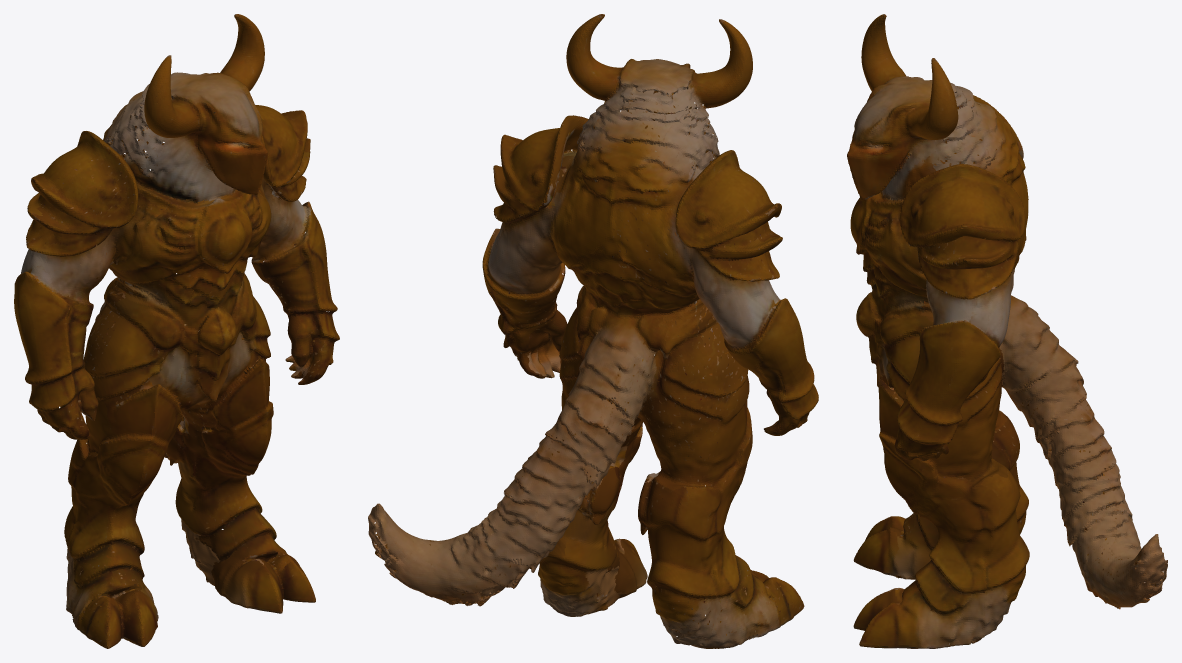
Rendered from minotaur_textured_native.glb.
3 views of the same model, side by side, from view 1: azimuth 30°, elevation 25°; view 2: azimuth 150°, elevation 25°; view 3: azimuth 270°, elevation 25° (orthographic). The views are drawn at different scales.
Visible parts, largest first — view 1: world; view 2: world; view 3: world.
Part boxes in pixels (x1,y1,x2,y2): world: [14, 14, 339, 648]; world: [368, 14, 818, 648]; world: [847, 14, 1167, 648].
Size of the model in its own units: 1.17 by 1.97 by 1.
Materials: 1 (1 with a texture image).
